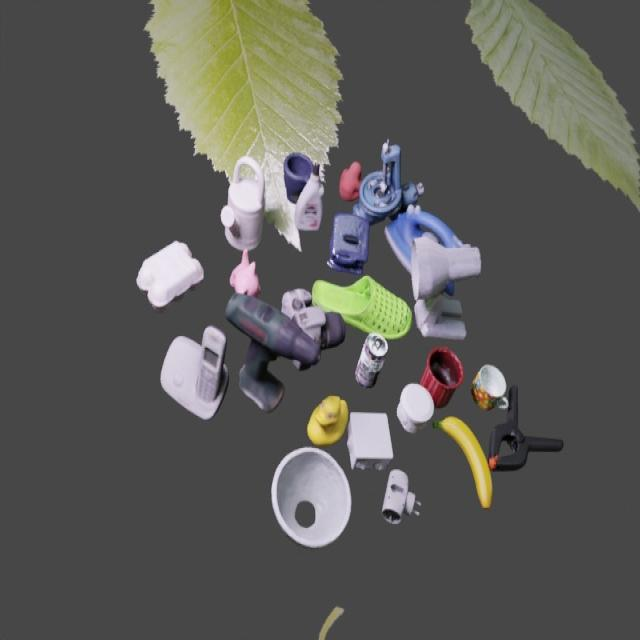Other Objects: (272, 447, 352, 547), (487, 385, 564, 469), (355, 140, 424, 223), (435, 416, 493, 508), (137, 241, 204, 307), (420, 347, 464, 407), (348, 412, 394, 468), (329, 213, 370, 273), (382, 469, 419, 523), (307, 396, 348, 444), (397, 383, 435, 432), (356, 333, 388, 388), (284, 153, 319, 201), (295, 173, 324, 229), (472, 364, 507, 408), (231, 251, 261, 295), (340, 161, 362, 200)
